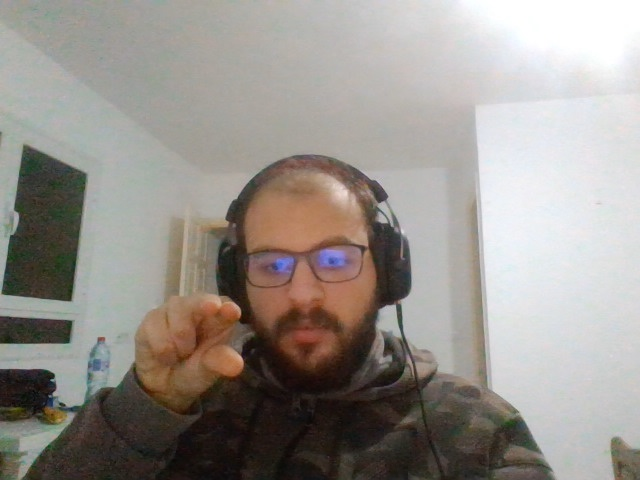No: (135, 292, 242, 399)
